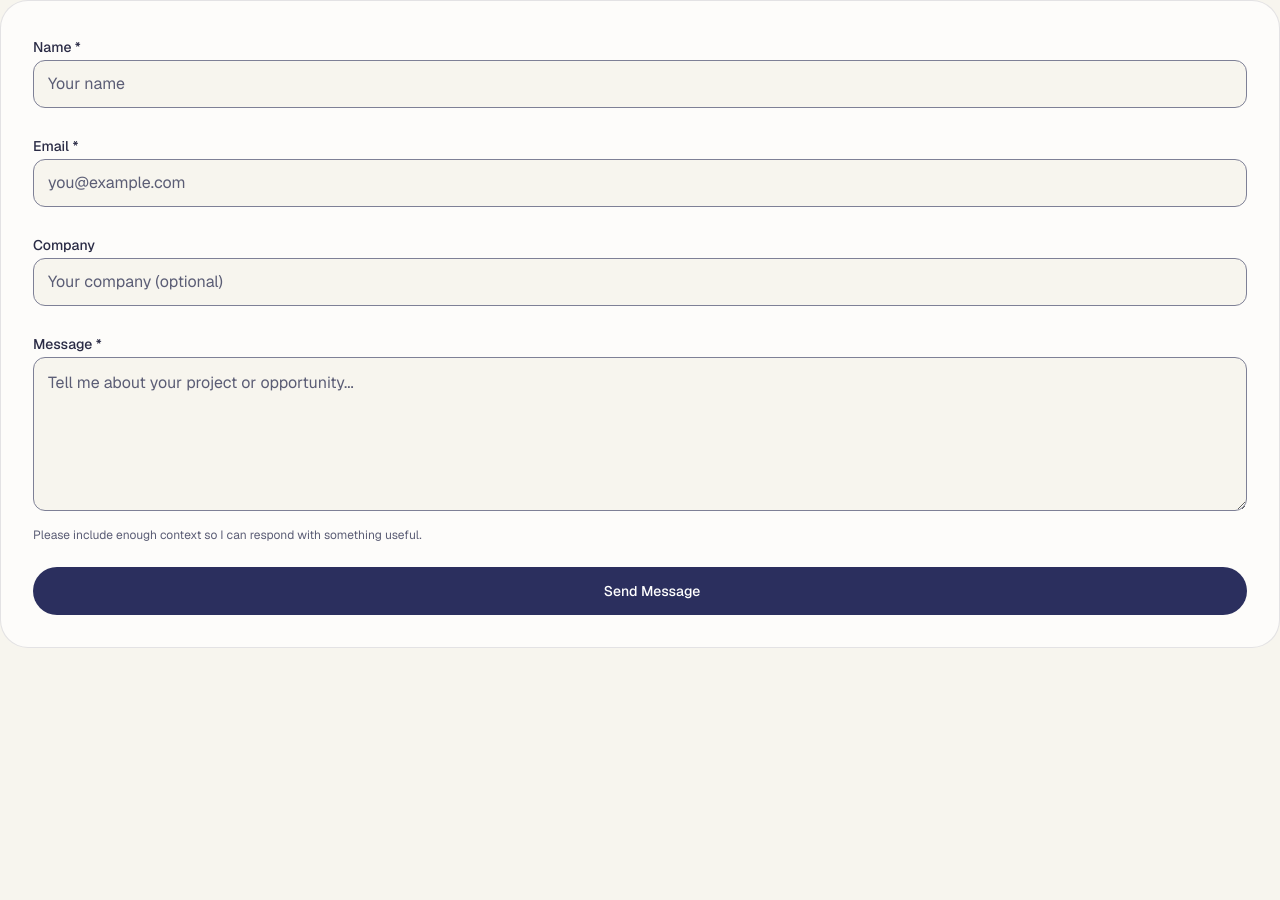
Scenario: ContactForm › submits successfully when form is valid
Type "John Doe" into the field labelled "Name *".
click(640, 84); type("John Doe")  # box [33,60,1247,108]
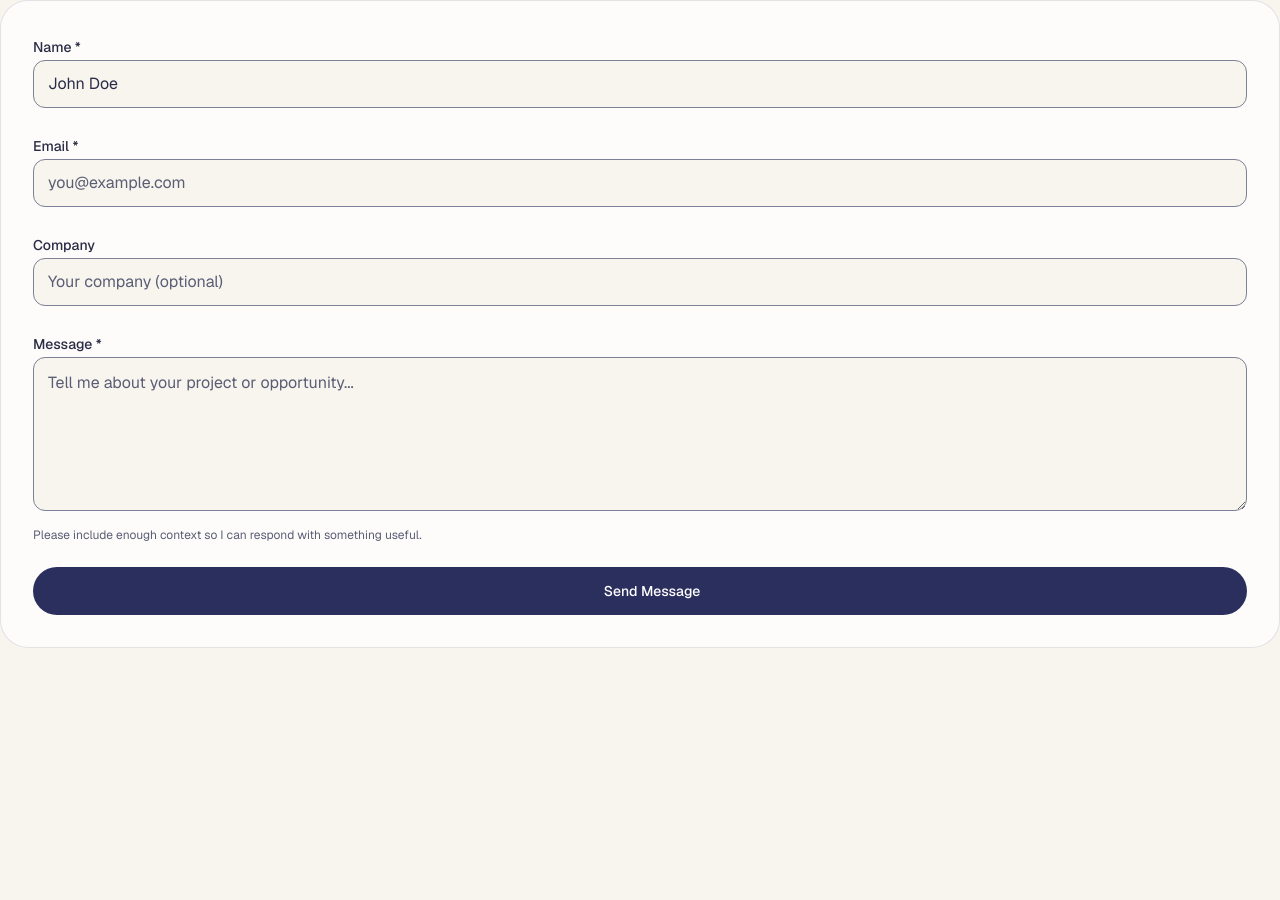
Type "john@example.com" into the field labelled "Email *".
click(640, 183); type("john@example.com")  # box [33,159,1247,207]
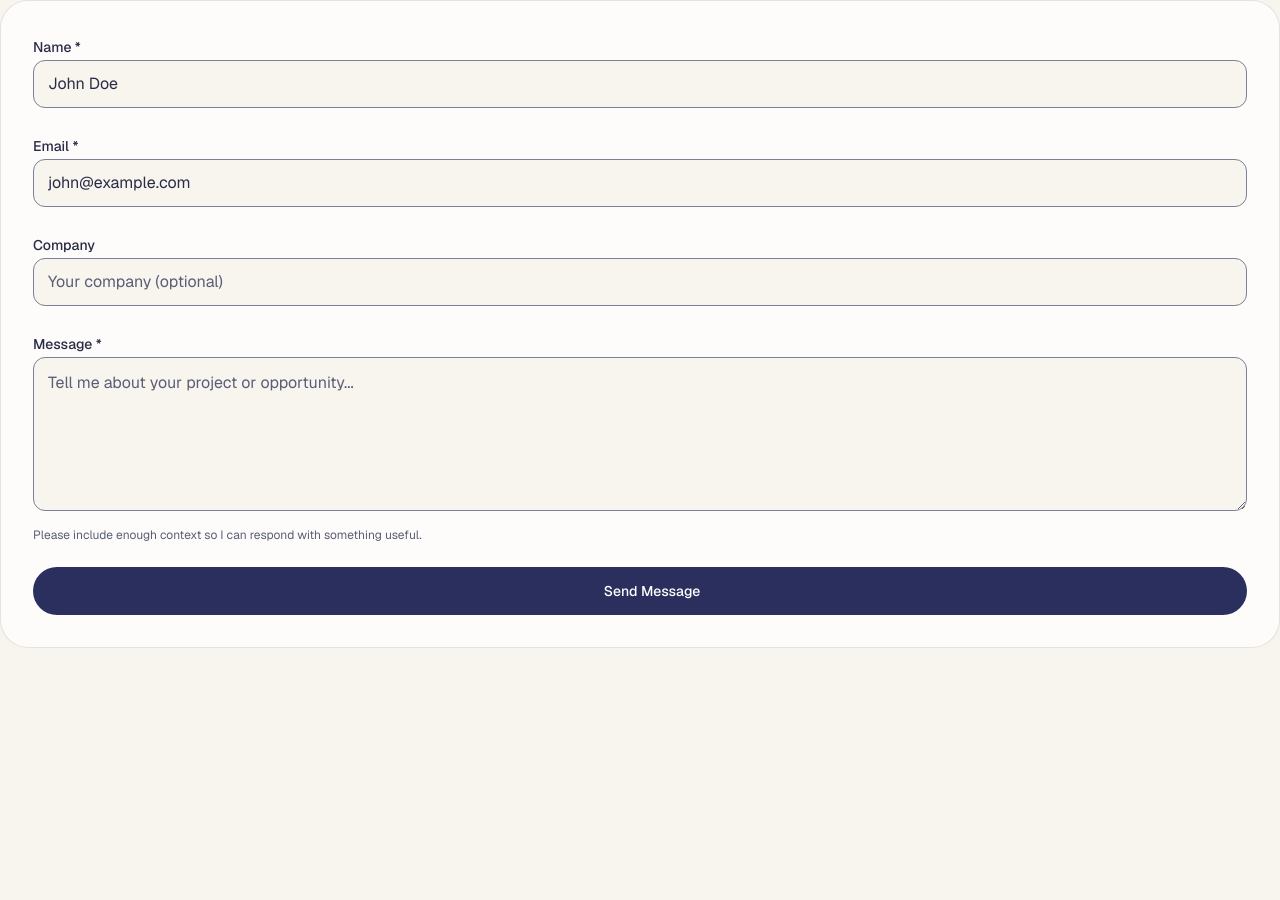
Type "This is a message with enough length." into the text box labelled "Message *".
click(640, 434); type("This is a message with enough length.")  # box [33,357,1247,511]
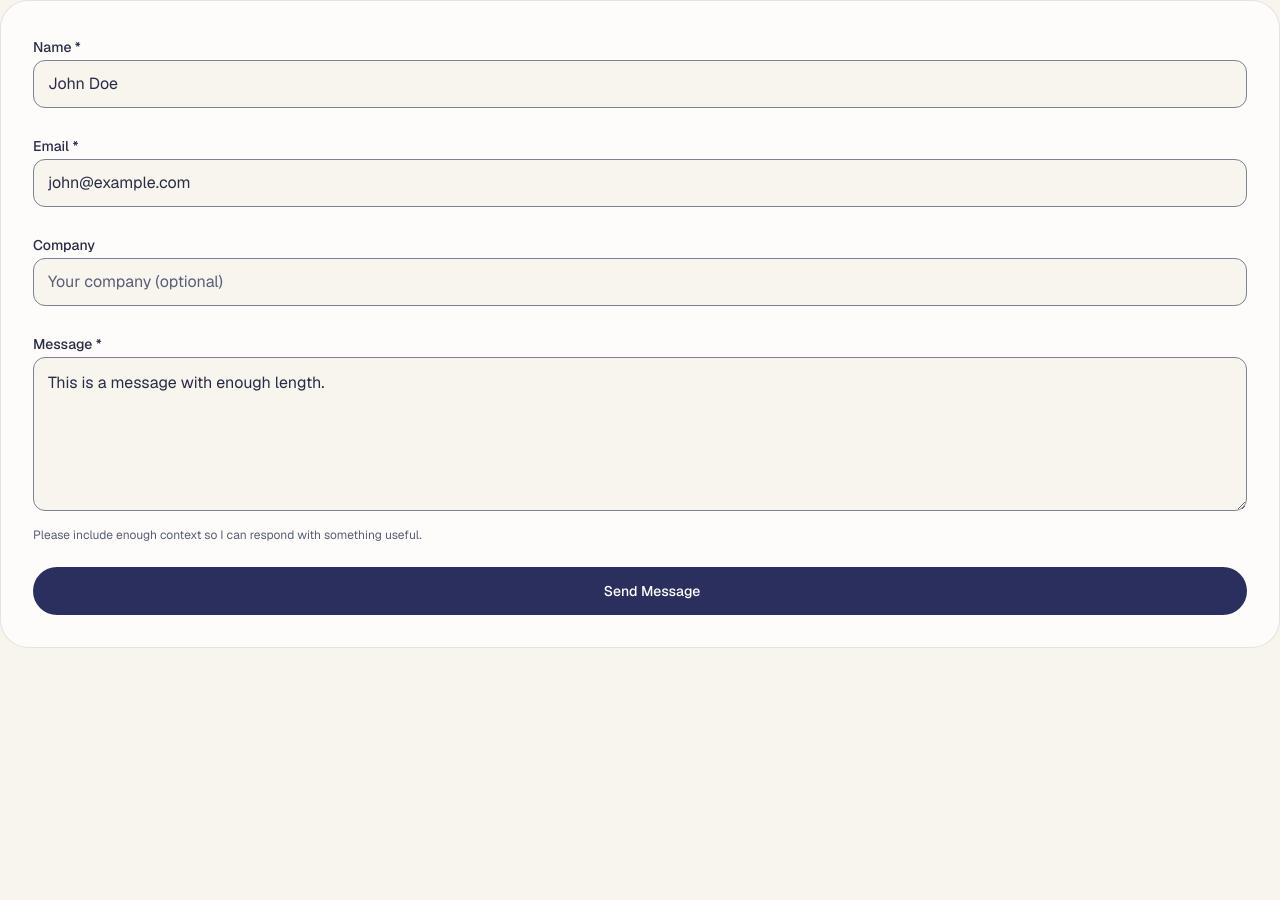
Click the button "Send Message".
click(640, 591)  # box [33,567,1247,615]
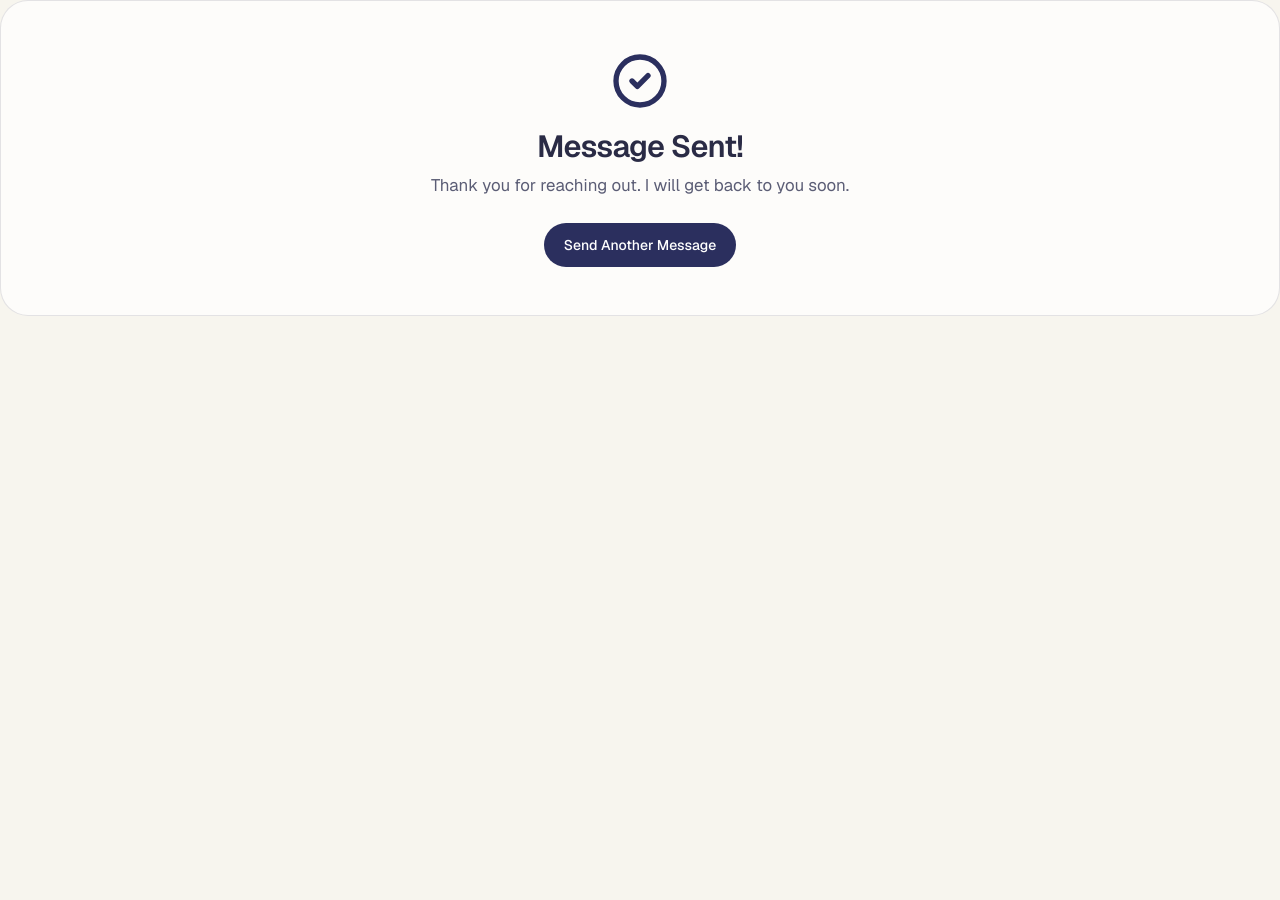
Expected: the text "Thank you for reaching out. I will get back to you soon." is shown, [431,174,849,196]
